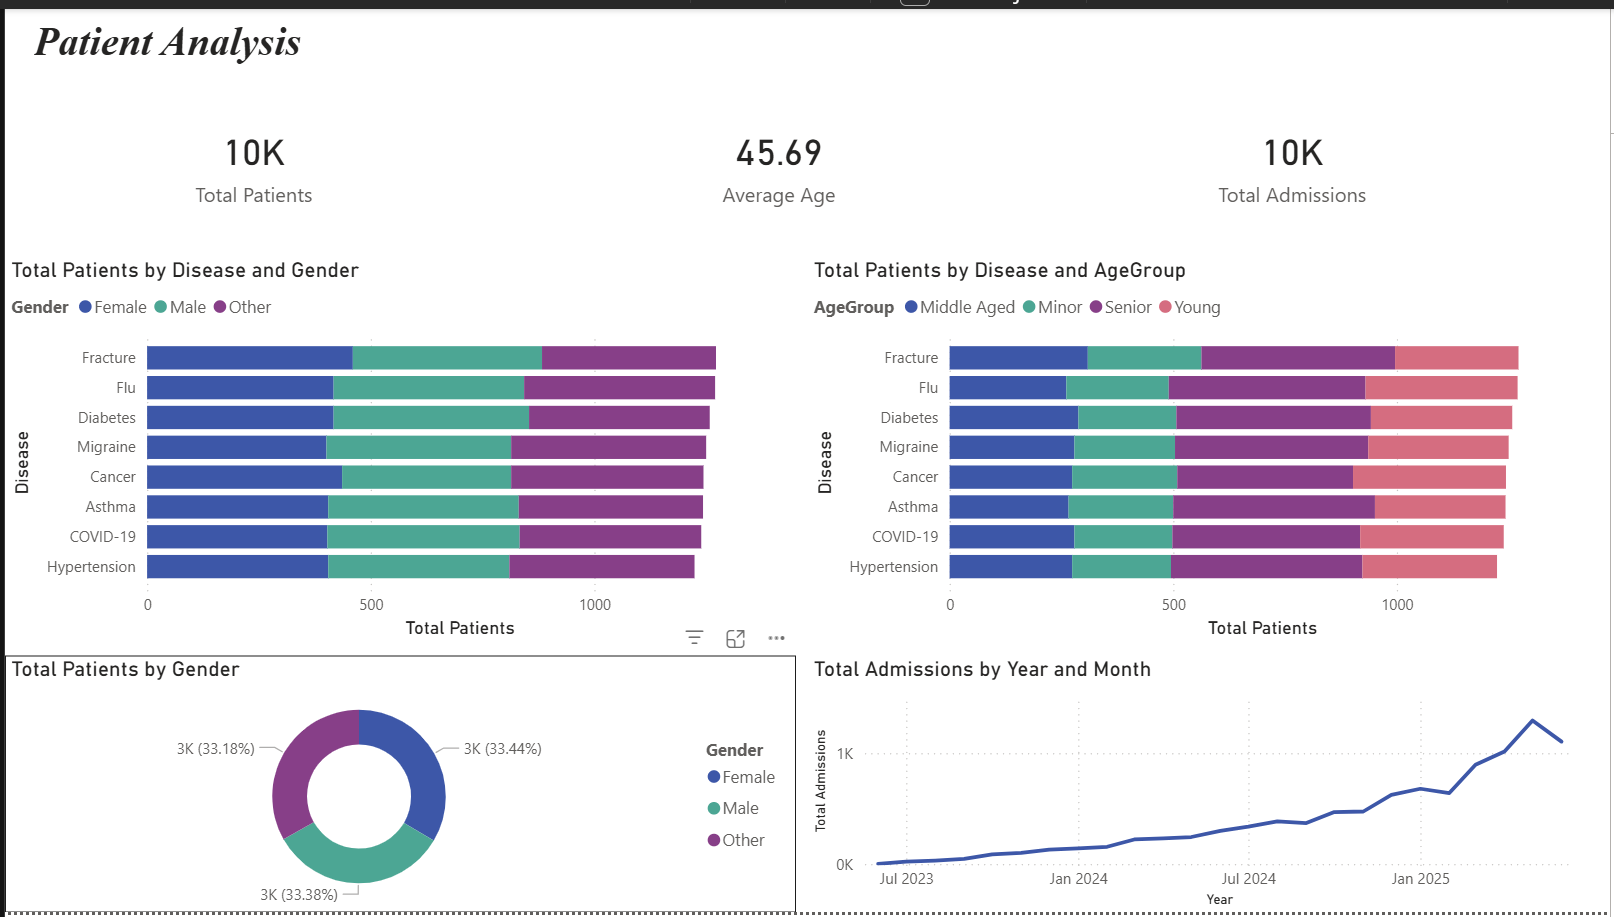

Layout of this report page (visuals, bound fields, positions):
{"tool":"powerbi","page":{"name":"Patient","canvas":[1280,720],"ordinal":1},"visuals":[{"type":"textbox","box":[18.5,2.3,263,55.6],"z":0},{"type":"card","fields":{"Values":["_Measure.Total Patients"]},"box":[0,47.5,396.3,149.5],"z":1000},{"type":"card","fields":{"Values":["_Measure.Average Age"]},"box":[422.9,47.5,387,149.5],"z":2000},{"type":"card","fields":{"Values":["_Measure.Total Admissions"]},"box":[820.4,47.5,411.3,149.5],"z":3000},{"type":"barChart","fields":{"Category":["Admission_Table.Disease"],"Y":["_Measure.Total Patients"],"Series":["Patient_Table.Gender"]},"box":[0,197,630.3,308.2],"z":4000},{"type":"barChart","fields":{"Category":["Admission_Table.Disease"],"Y":["_Measure.Total Patients"],"Series":["Patient_Table.AgeGroup"]},"box":[639.6,197,630.3,308.2],"z":5000},{"type":"donutChart","fields":{"Category":["Patient_Table.Gender"],"Y":["_Measure.Total Patients"]},"box":[0,515,630,205],"z":6000},{"type":"lineChart","fields":{"Y":["_Measure.Total Admissions"],"Category":["Admission_Table.AdmissionDate.Variation.Date Hierarchy.Year","Admission_Table.AdmissionDate.Variation.Date Hierarchy.Month"]},"box":[640,515,630,205],"z":7000}]}

Visuals, with their boxes in screenshot pixels (x1, y1, x2, y2), scaled from the page's 1280x720 canvas onto the 1614x917 screenshot:
textbox: detection(23, 3, 355, 74)
card - _Measure.Total Patients: detection(0, 60, 500, 251)
card - _Measure.Average Age: detection(533, 60, 1021, 251)
card - _Measure.Total Admissions: detection(1034, 60, 1553, 251)
barChart - Admission_Table.Disease x _Measure.Total Patients: detection(0, 251, 795, 643)
barChart - Admission_Table.Disease x _Measure.Total Patients: detection(806, 251, 1601, 643)
donutChart - Patient_Table.Gender x _Measure.Total Patients: detection(0, 656, 794, 916)
lineChart - _Measure.Total Admissions x Admission_Table.AdmissionDate.Variation.Date Hierarchy.Year: detection(807, 656, 1601, 916)
